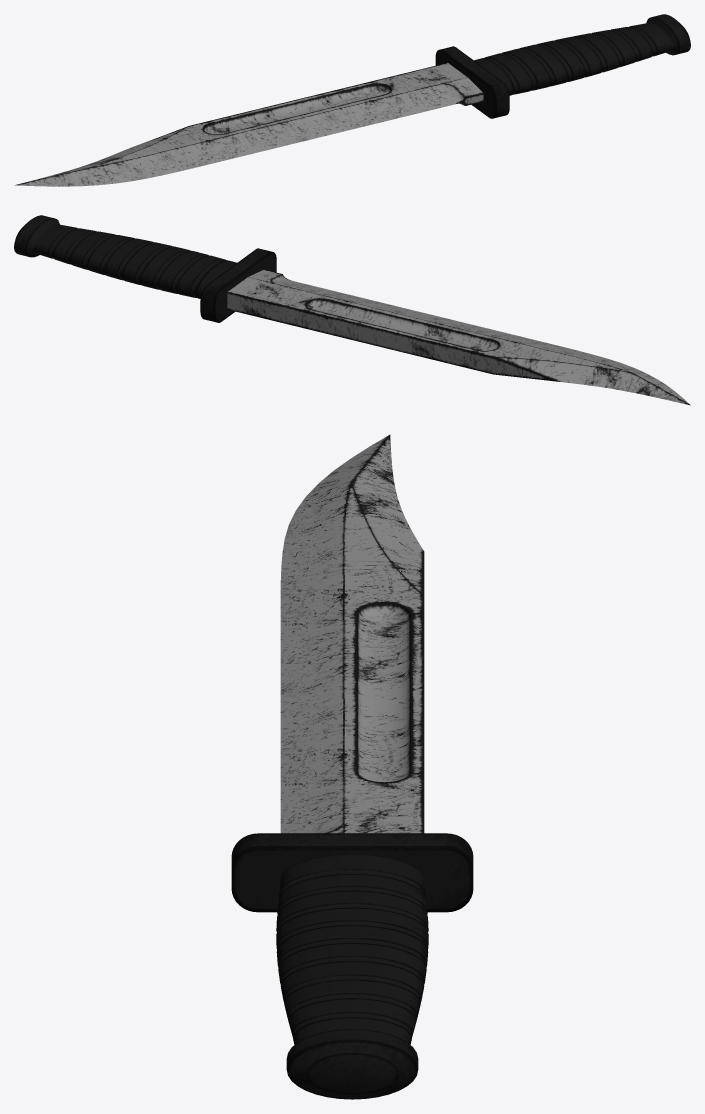
File: Knife_3D.fbx
The picture shows the model from 3 angles, top to bottom: view 1: azimuth 30°, elevation 25°; view 2: azimuth 150°, elevation 25°; view 3: azimuth 270°, elevation 25°; orthographic projection. The views are drawn at different scales.
Parts seen in each view (by area): view 1: Knife_Model; view 2: Knife_Model; view 3: Knife_Model.
Part boxes in pixels (box(x1,y1,x2,y2)): Knife_Model: box(15, 14, 690, 186); Knife_Model: box(14, 215, 690, 405); Knife_Model: box(231, 434, 473, 1099).
Size of the model in its own units: 30.05 by 1.43 by 4.8.
